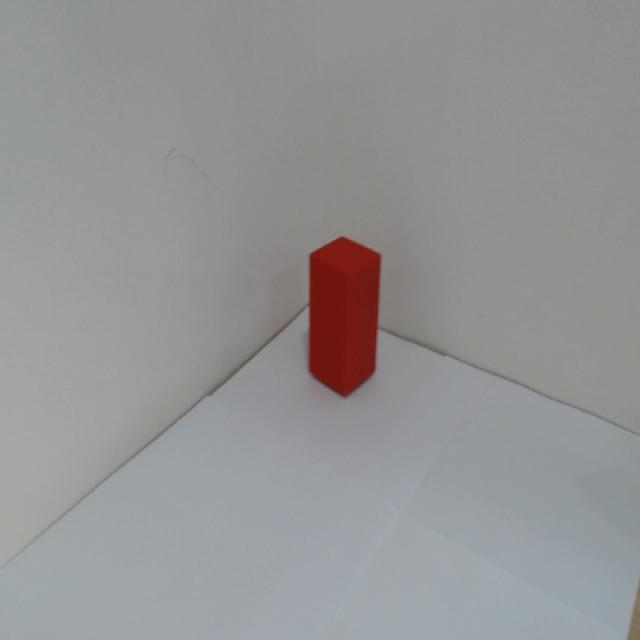cube: (305, 233, 382, 399)
